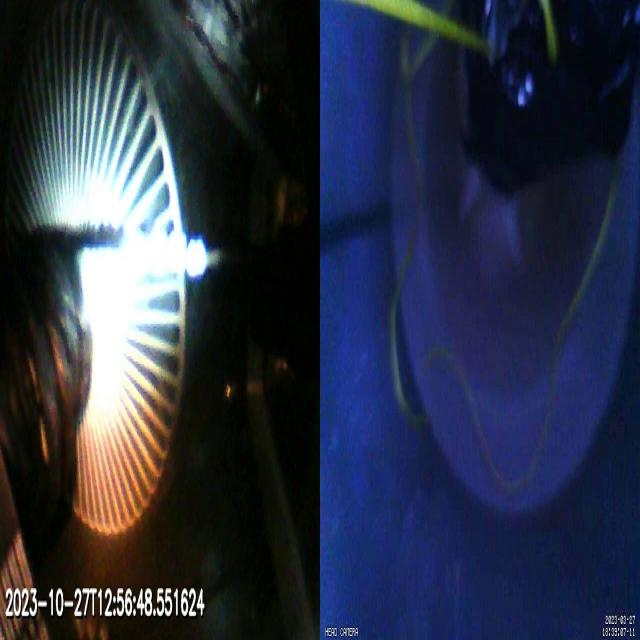white-dots: (152, 228, 206, 280)
